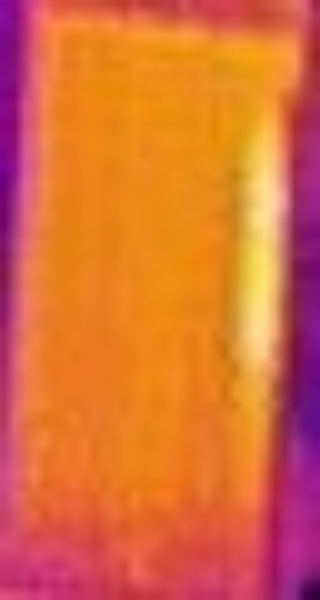Diode: (233, 98, 298, 471)
